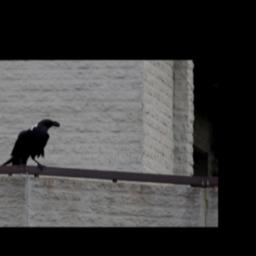Crow: (0, 118, 61, 176)
